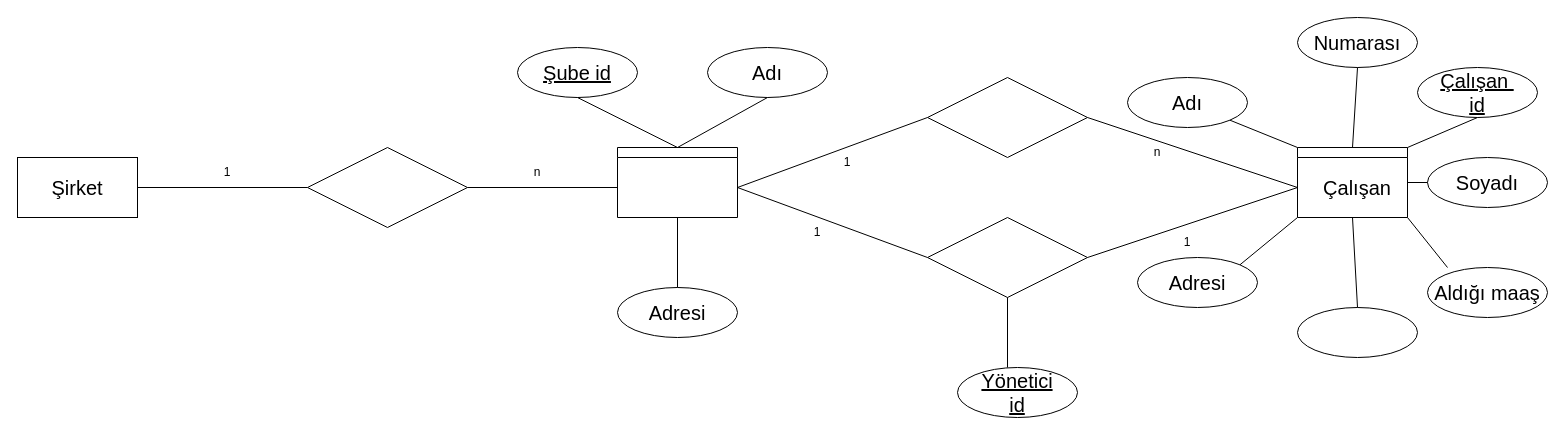
The diagram is 1565 pixels wide and 435 high, and some of its shapes have lost their labels. The shapes that lost their labels are listed below. From the top down, each one's centre as x and y in pixels, then its label:
[1007,117]: Çalışır
[387,187]: Sahiptir
[677,182]: Şube
[1007,257]: Yönetir
[1357,332]: Görevi
